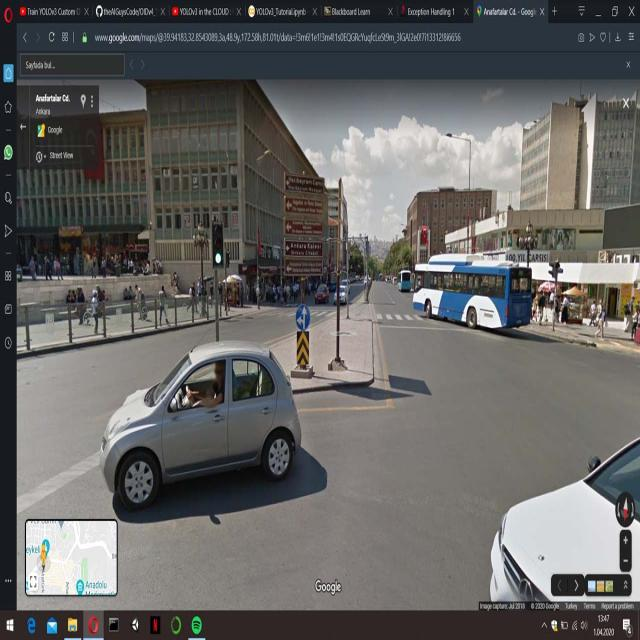ilerisol: (296, 306, 310, 329)
yesil: (210, 221, 224, 265)
